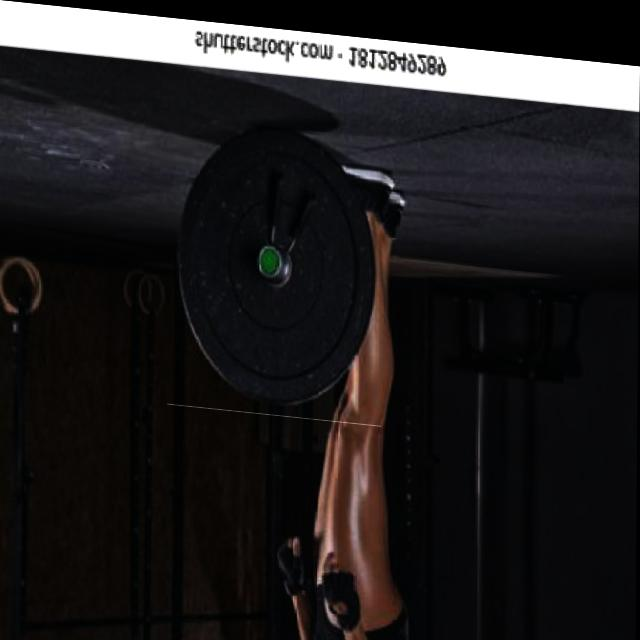barbell: (169, 103, 384, 419)
